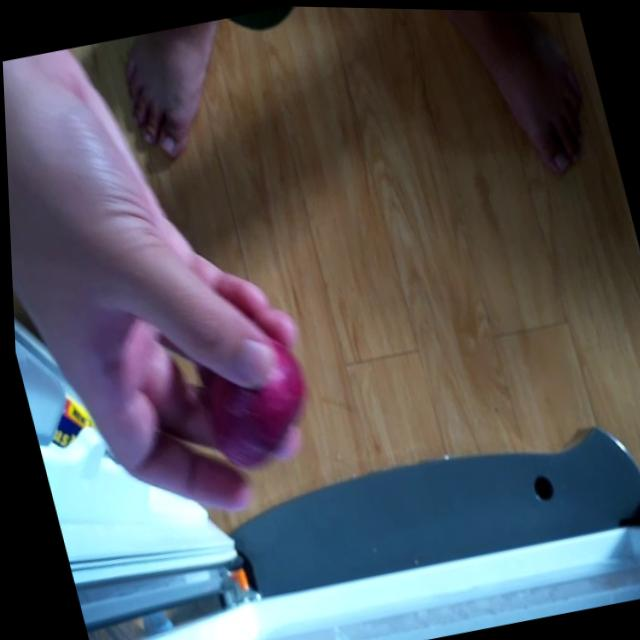onion: (162, 276, 315, 474)
